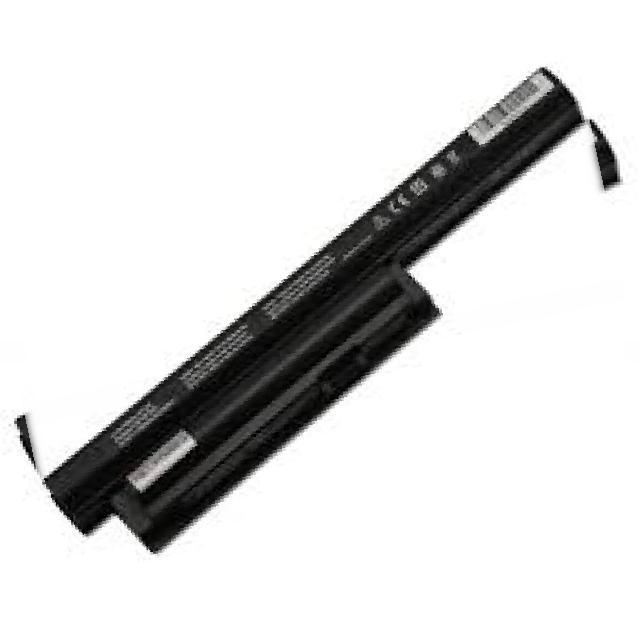Battery: (38, 46, 589, 591)
